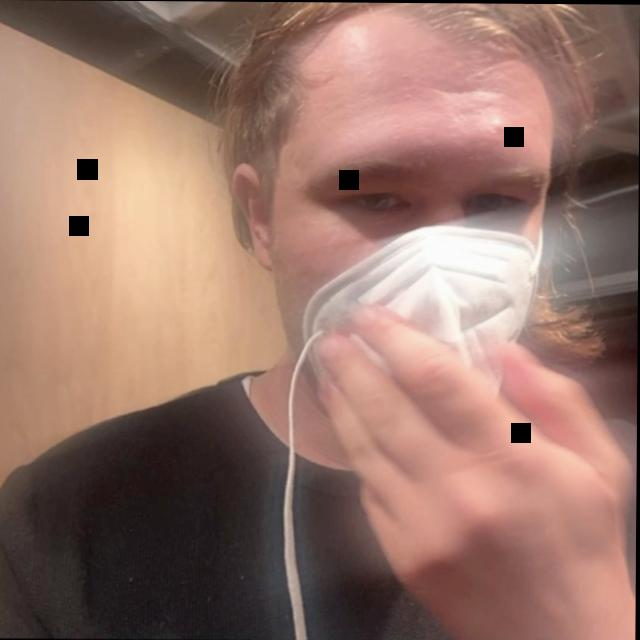Mask: (196, 1, 548, 469)
